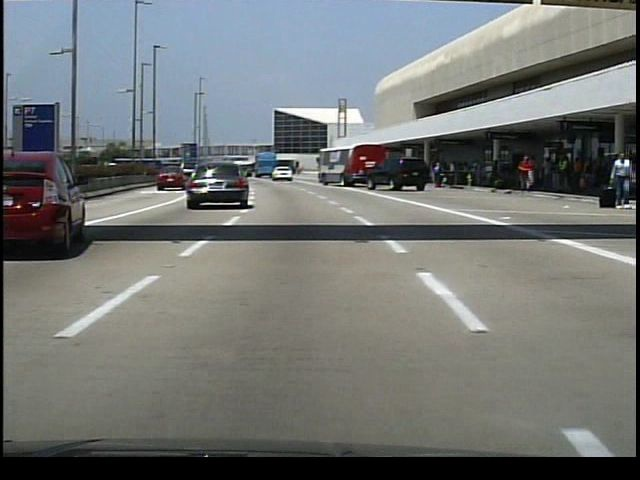person: (611, 152, 633, 209), (514, 153, 534, 193), (581, 157, 599, 194), (555, 152, 568, 191), (431, 160, 445, 189), (490, 157, 502, 187)
